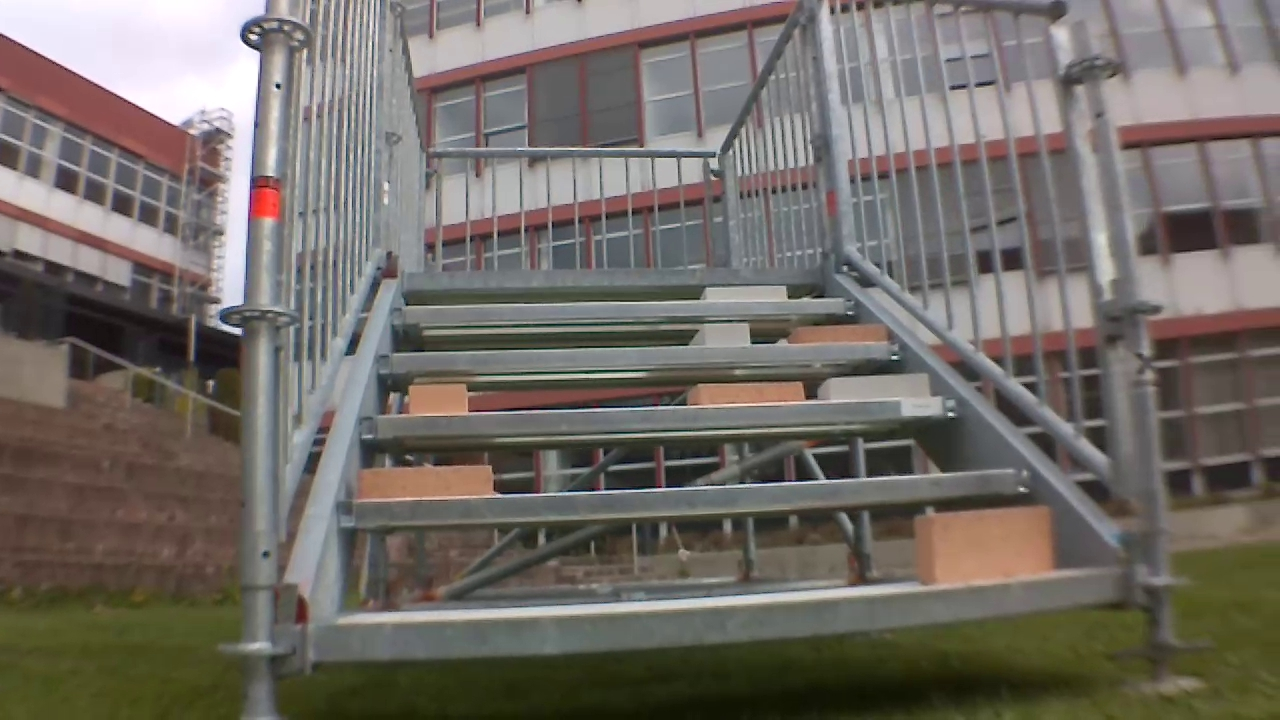brick: (911, 505, 1066, 586), (360, 462, 501, 503), (681, 381, 807, 411), (825, 375, 933, 407), (790, 324, 889, 350), (405, 381, 475, 415), (692, 285, 790, 307), (685, 321, 751, 353)
edge: (323, 569, 1133, 673), (339, 457, 1043, 534), (355, 399, 969, 449), (374, 340, 907, 374), (390, 299, 861, 330), (401, 261, 833, 293)
stairs: (250, 0, 1168, 715)
steps: (296, 264, 1135, 686)
